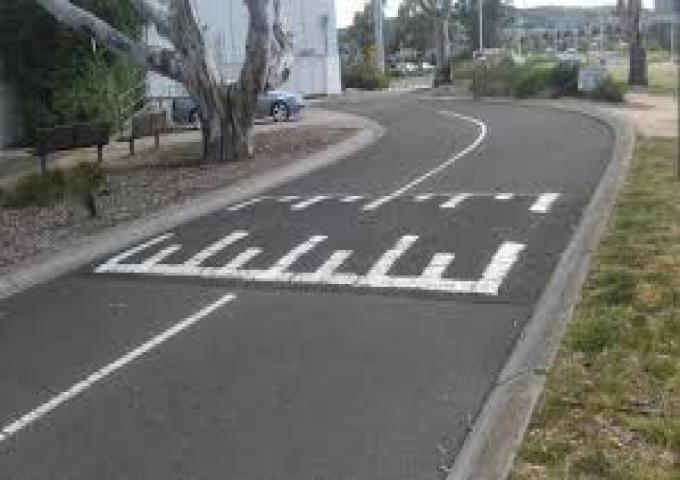speedbreaker: (87, 178, 584, 298)
